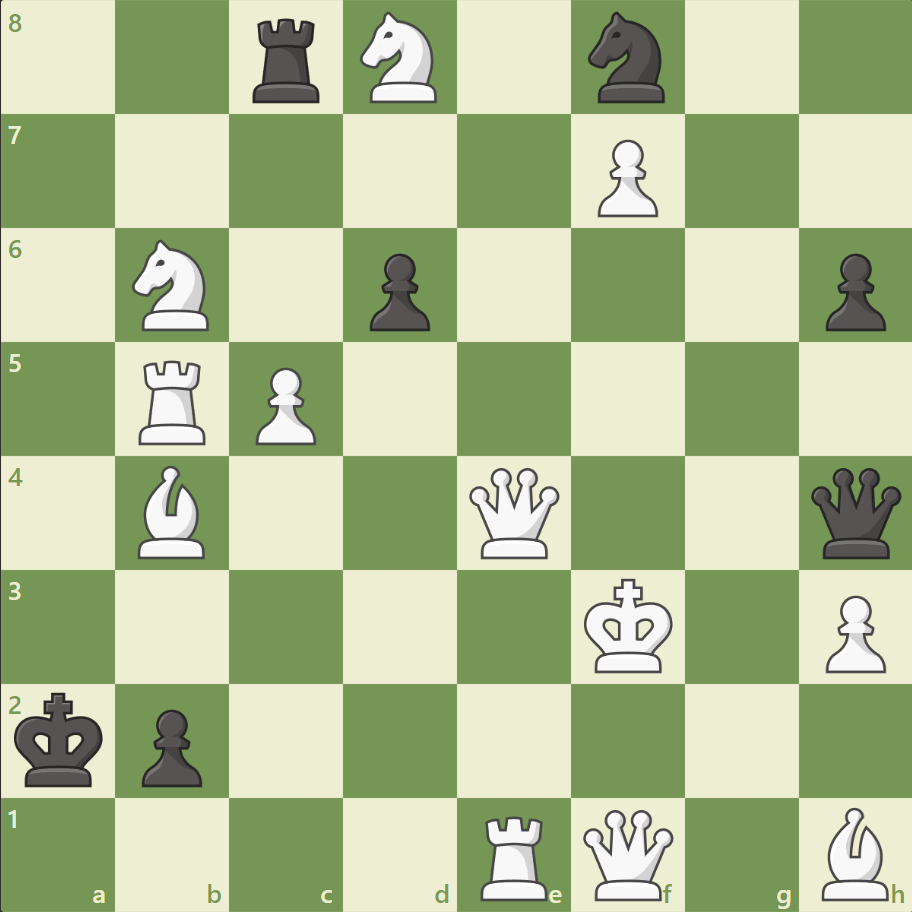B: (131, 460, 215, 563), (812, 801, 896, 904)
K: (579, 571, 679, 679)
N: (351, 7, 449, 110), (124, 234, 222, 337)
P: (247, 359, 322, 450), (588, 132, 662, 223), (815, 586, 889, 677)
Q: (464, 463, 563, 562), (578, 804, 677, 903)
R: (473, 806, 556, 904), (133, 352, 215, 449)
k: (11, 685, 111, 793)
n: (579, 7, 676, 110)
p: (133, 700, 208, 791), (361, 246, 435, 337), (815, 246, 889, 337)
q: (805, 463, 904, 562)
r: (246, 12, 329, 109)
